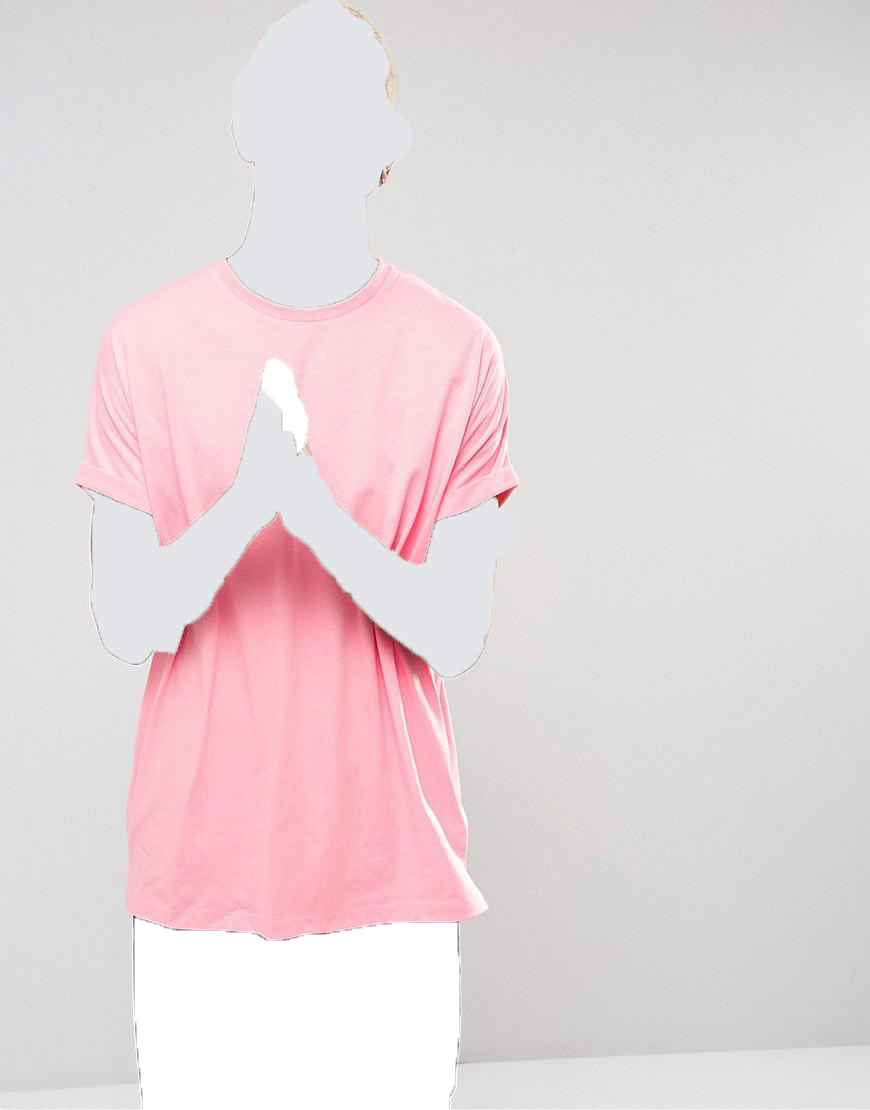teeshirt: (73, 256, 539, 944)
